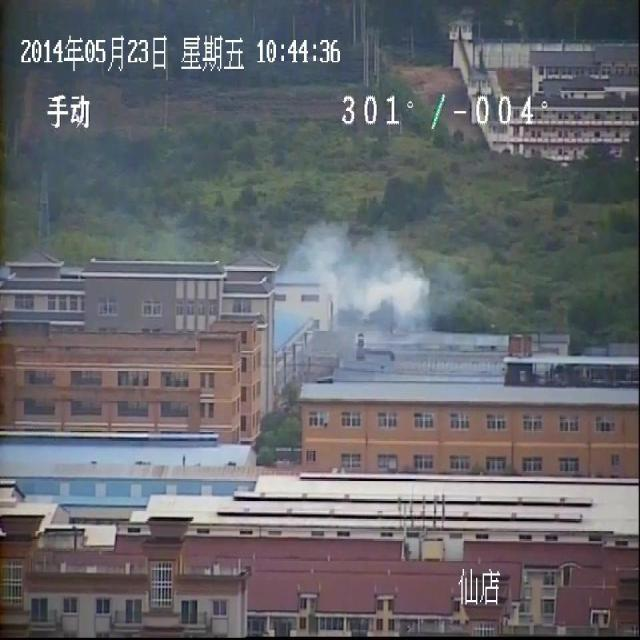smoke: (277, 220, 435, 327)
